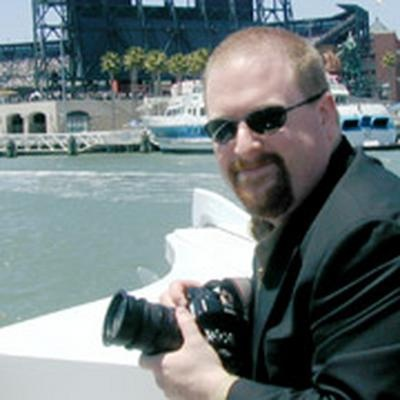head: (202, 26, 343, 219)
person: (87, 15, 394, 400)
